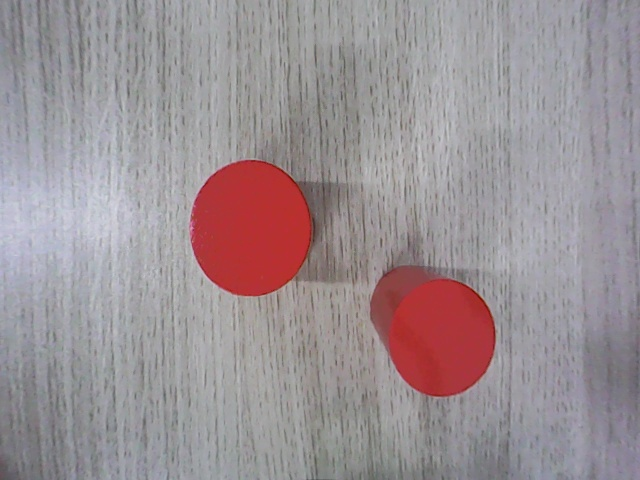upside of cylinder: (187, 160, 311, 298), (389, 279, 496, 397)
